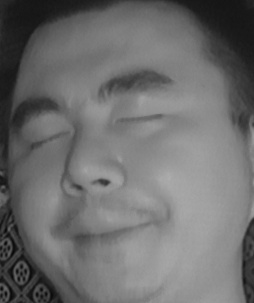blink: (111, 101, 167, 139), (24, 124, 74, 155)
mouth: (59, 204, 159, 266)
